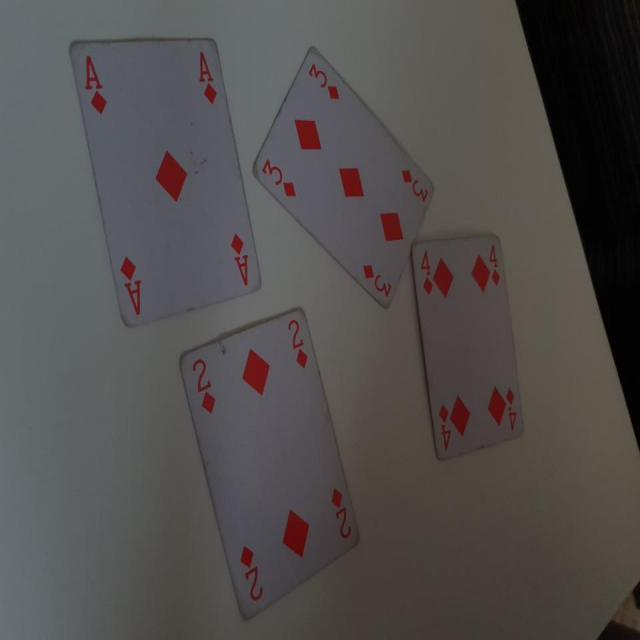2 Diamonds: (175, 298, 362, 625)
3 Diamonds: (256, 44, 436, 314)
4 Diamonds: (409, 233, 530, 461)
A Diamonds: (64, 36, 265, 345)
